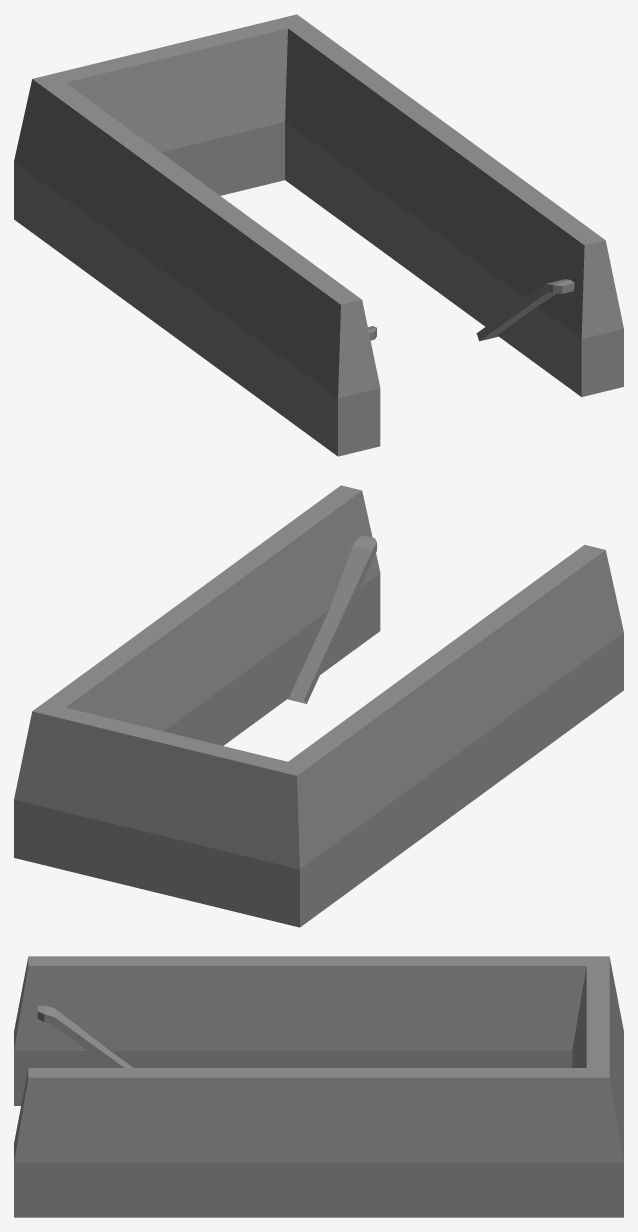
File: SW_ENV_StreetEntrance_01_Collision.fbx
3 renders of one model, top to bottom at view 1: azimuth 30°, elevation 25°; view 2: azimuth 150°, elevation 25°; view 3: azimuth 270°, elevation 25°, orthographic. The views are drawn at different scales.
Parts seen in each view (by area): view 1: SW_ENV_StreetEntrance_01_Collision; view 2: SW_ENV_StreetEntrance_01_Collision; view 3: SW_ENV_StreetEntrance_01_Collision.
Part boxes in pixels (x1=…): SW_ENV_StreetEntrance_01_Collision: x1=14, y1=14, x2=623, y2=456; SW_ENV_StreetEntrance_01_Collision: x1=14, y1=485, x2=623, y2=927; SW_ENV_StreetEntrance_01_Collision: x1=14, y1=956, x2=623, y2=1217.
Bounding box in the file's own units: 2.7 × 1.34 × 5.3.
